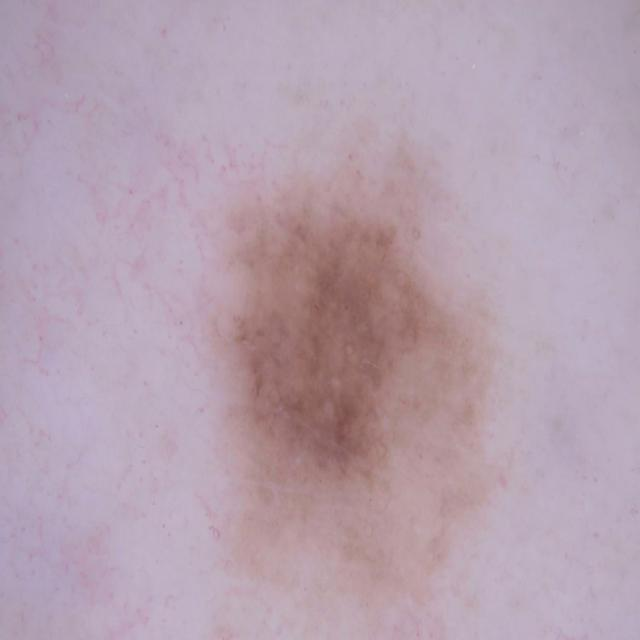Keratosis: (195, 172, 473, 534)
